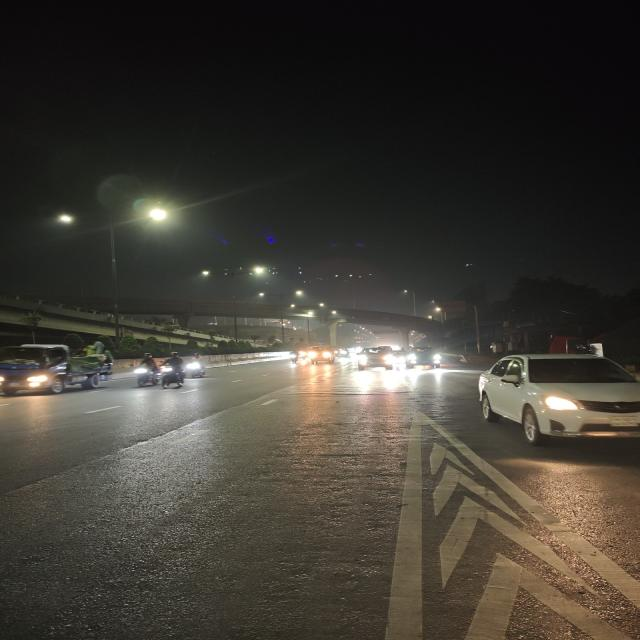bus: (304, 345, 336, 365)
car: (473, 352, 640, 448), (354, 344, 397, 372), (405, 344, 445, 370), (304, 344, 336, 366)
motorcycle: (130, 353, 189, 392), (184, 351, 213, 379), (286, 346, 300, 366)
pickup_van: (0, 339, 115, 396)
